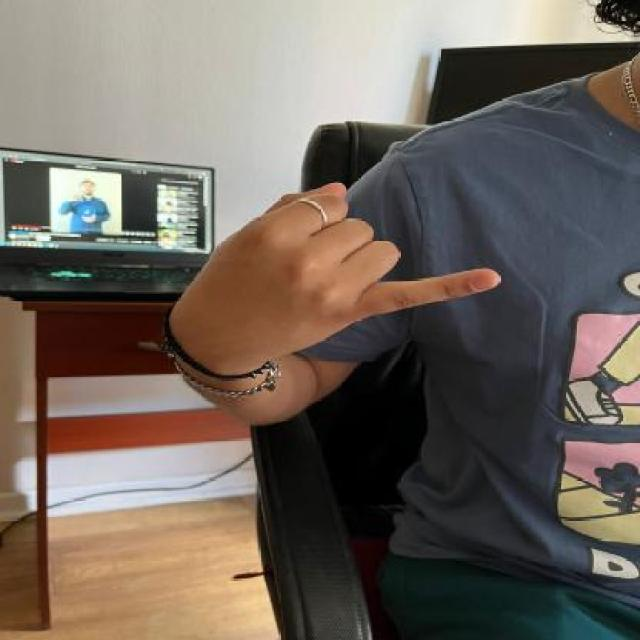J: (175, 176, 503, 347)
